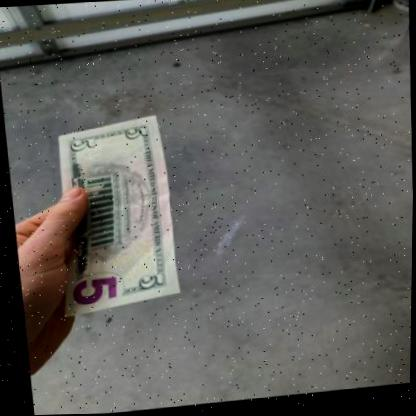dollar_back: (58, 117, 177, 319)
